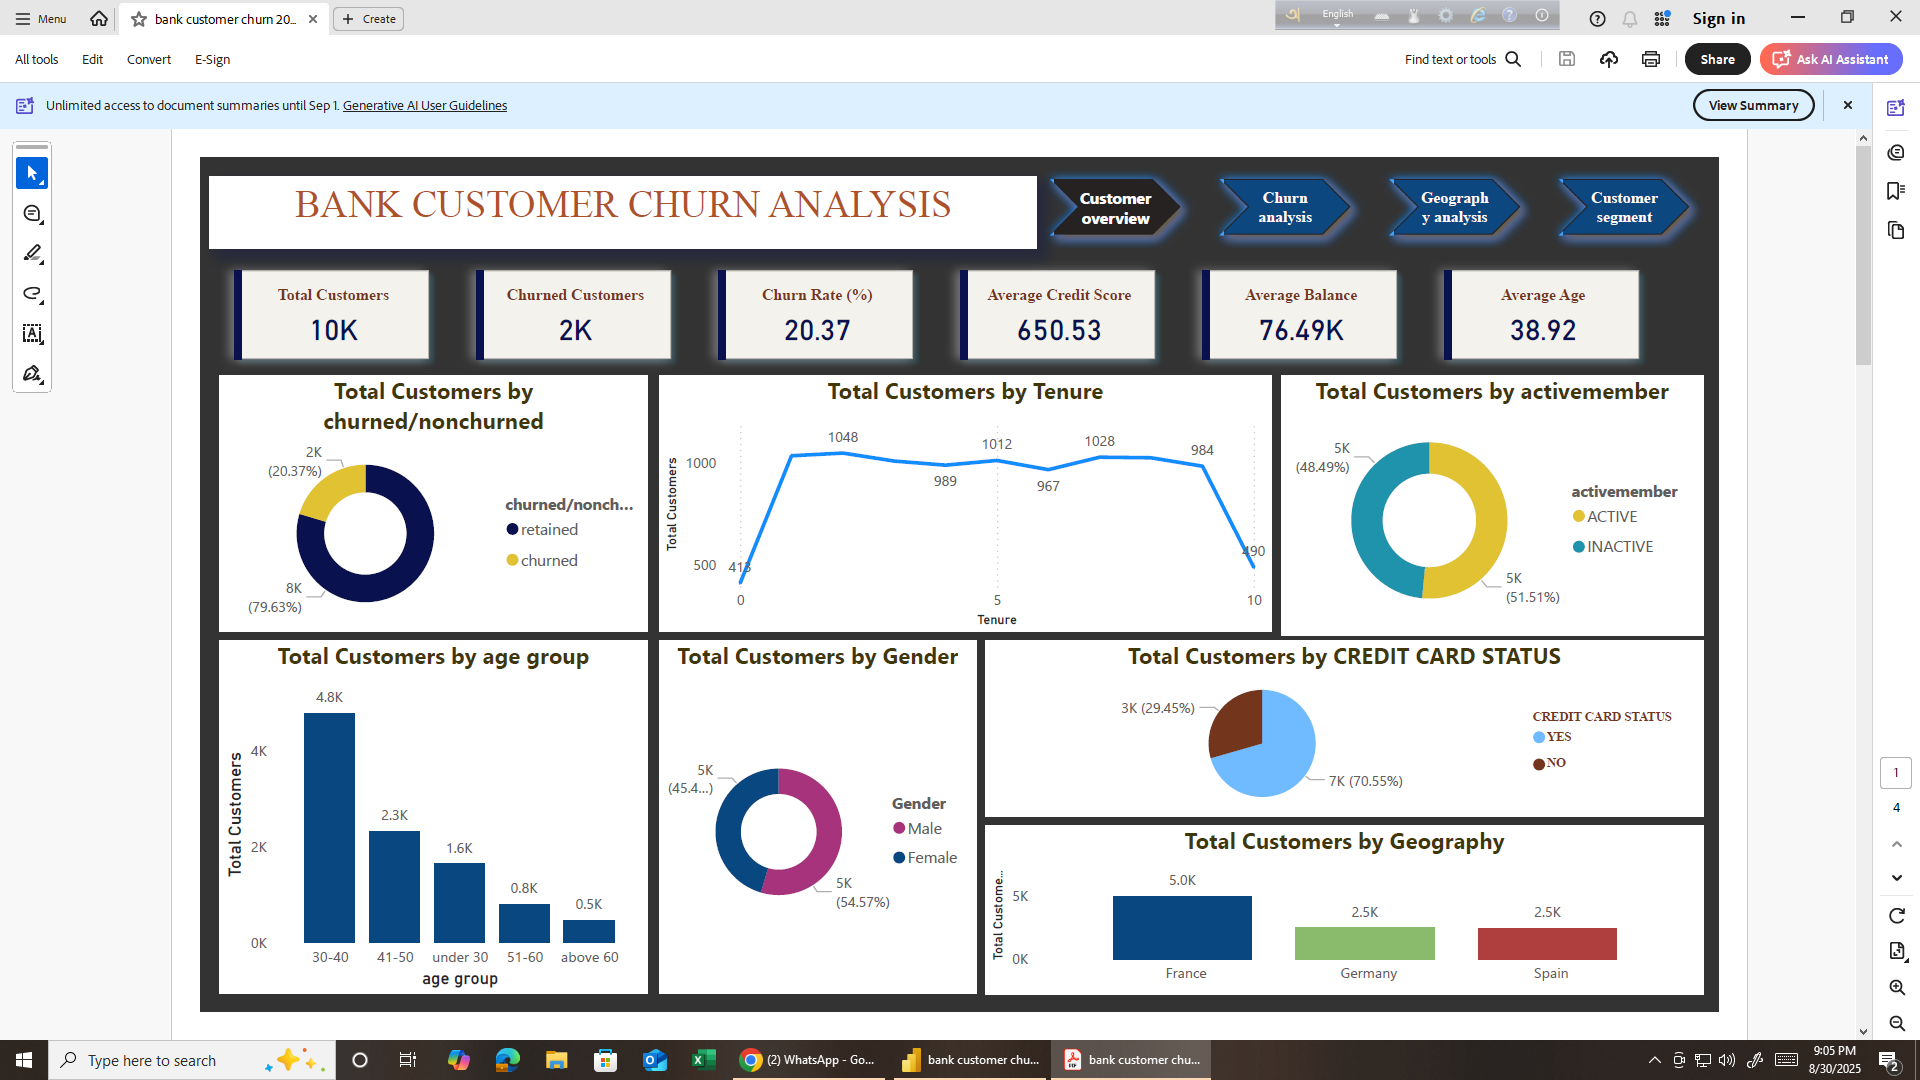

The page's visual inventory and layout, read from the dashboard file:
{"tool":"powerbi","page":{"name":"Customer overview","canvas":[1280,720],"ordinal":0},"visuals":[{"type":"pageNavigator","box":[705.2,6.8,565.1,70],"z":0},{"type":"cardVisual","fields":{"Data":["measure.Total Customers","measure.Churned Customers","measure.Churn Rate (%)","measure.Average Credit Score","measure.Average Balance","measure.Average Age"]},"box":[7.8,73.9,1230.4,116.7],"z":1000},{"type":"textbox","box":[7.8,15.6,697.4,61.3],"z":2000},{"type":"donutChart","fields":{"Y":["measure.Total Customers"],"Category":["Bank_Churn.churned/nonchurned"]},"box":[15.6,183.8,361.8,215.9],"z":3000},{"type":"donutChart","fields":{"Category":["Bank_Churn.Gender"],"Y":["measure.Total Customers"]},"box":[387.1,406.6,266.5,298.6],"z":4000},{"type":"clusteredColumnChart","fields":{"Category":["Bank_Churn.age group"],"Y":["measure.Total Customers"]},"box":[15.6,406.6,361.8,298.6],"z":5000},{"type":"lineChart","fields":{"Category":["Bank_Churn.Tenure"],"Y":["measure.Total Customers"]},"box":[387.1,183.8,515.5,215.9],"z":6000},{"type":"donutChart","fields":{"Y":["measure.Total Customers"],"Category":["Bank_Churn.activemember"]},"box":[911.4,183.8,356,218.8],"z":7000},{"type":"columnChart","fields":{"Category":["Bank_Churn.Geography"],"Y":["measure.Total Customers"]},"box":[662,563,605,143],"z":8000},{"type":"pieChart","fields":{"Category":["Bank_Churn.CREDIT CARD STATUS"],"Y":["measure.Total Customers"]},"box":[662,407,605,149],"z":9000}]}

Visuals, with their boxes on the page's 1280x720 design canvas (x1, y1, x2, y2). These are canvas units, not pixel positions in the 1920x1080 screenshot, which may show the page scaled, cropped or inside an application window:
pageNavigator: <bbox>705, 7, 1270, 77</bbox>
cardVisual - measure.Total Customers x measure.Churned Customers: <bbox>8, 74, 1238, 191</bbox>
textbox: <bbox>8, 16, 705, 77</bbox>
donutChart - measure.Total Customers x Bank_Churn.churned/nonchurned: <bbox>16, 184, 377, 400</bbox>
donutChart - Bank_Churn.Gender x measure.Total Customers: <bbox>387, 407, 654, 705</bbox>
clusteredColumnChart - Bank_Churn.age group x measure.Total Customers: <bbox>16, 407, 377, 705</bbox>
lineChart - Bank_Churn.Tenure x measure.Total Customers: <bbox>387, 184, 903, 400</bbox>
donutChart - measure.Total Customers x Bank_Churn.activemember: <bbox>911, 184, 1267, 403</bbox>
columnChart - Bank_Churn.Geography x measure.Total Customers: <bbox>662, 563, 1267, 706</bbox>
pieChart - Bank_Churn.CREDIT CARD STATUS x measure.Total Customers: <bbox>662, 407, 1267, 556</bbox>
